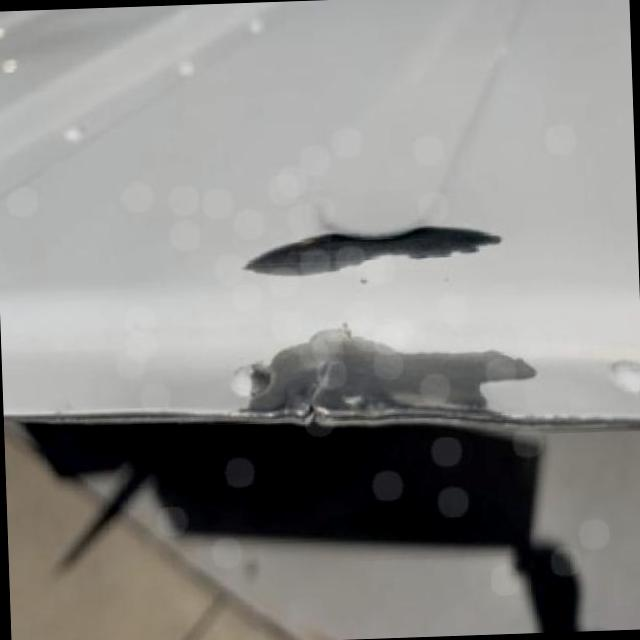crack: (283, 326, 345, 406)
